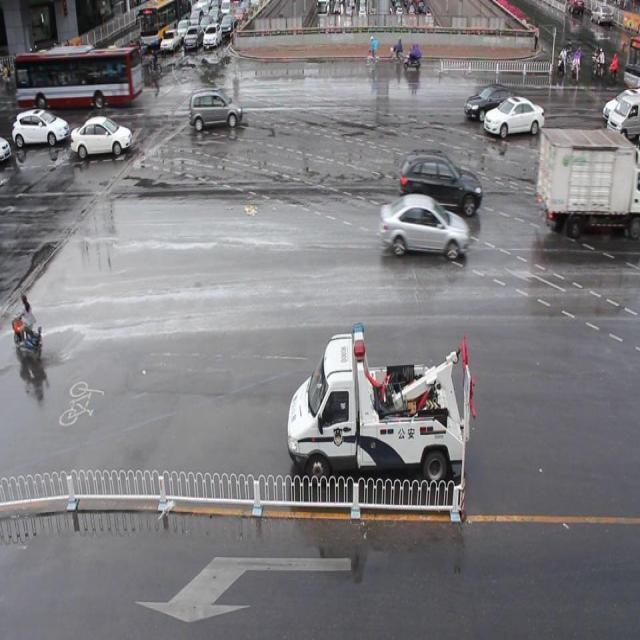bus: (286, 320, 475, 486), (538, 126, 640, 235)
car: (378, 192, 469, 260), (399, 148, 482, 215), (483, 97, 544, 138), (71, 117, 132, 157), (189, 90, 243, 130), (464, 86, 514, 118)
truck: (605, 92, 640, 139)
van: (16, 48, 143, 106)
